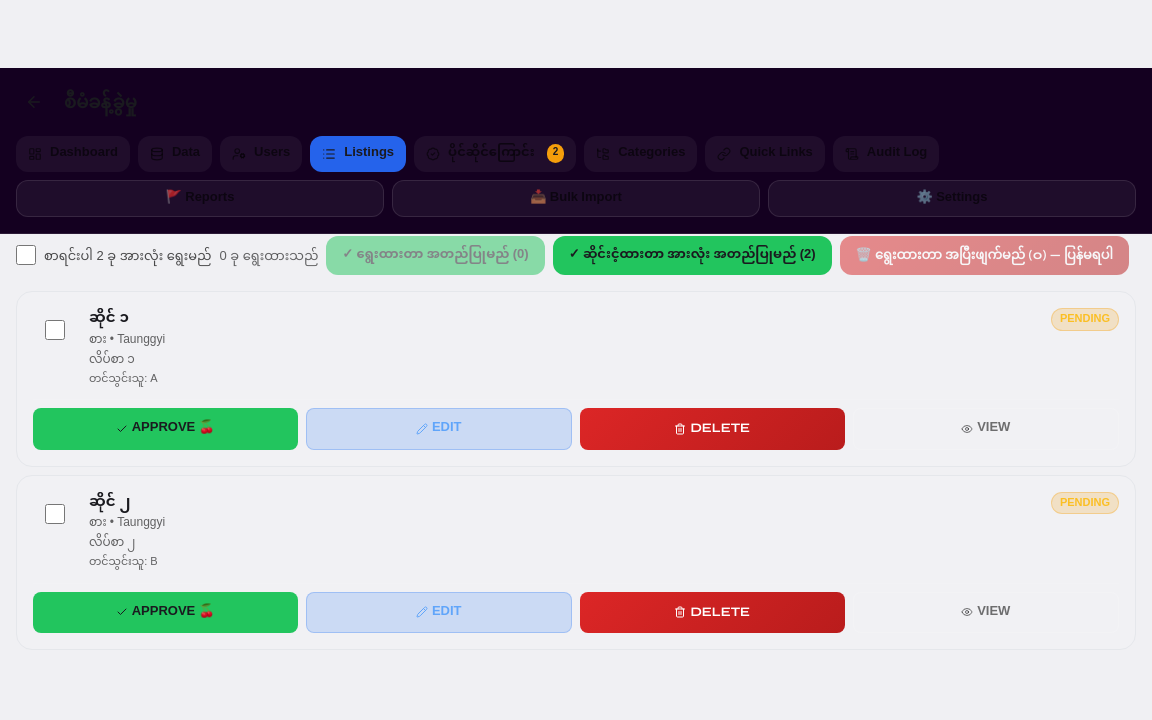
Scenario: v9.28 bulk approve: Admin listings tab › Approve selected, partial failure: failed row stays selected for retry, error toast names it
expect the text "ဆိုင် ၁" is shown: met, box [89,302,129,335]
expect the text "ဆိုင် ၂" is shown: met, box [89,486,130,518]
Click the checkbox next to "ဆိုင် ၁" at (55, 330), box [45,320,65,340]
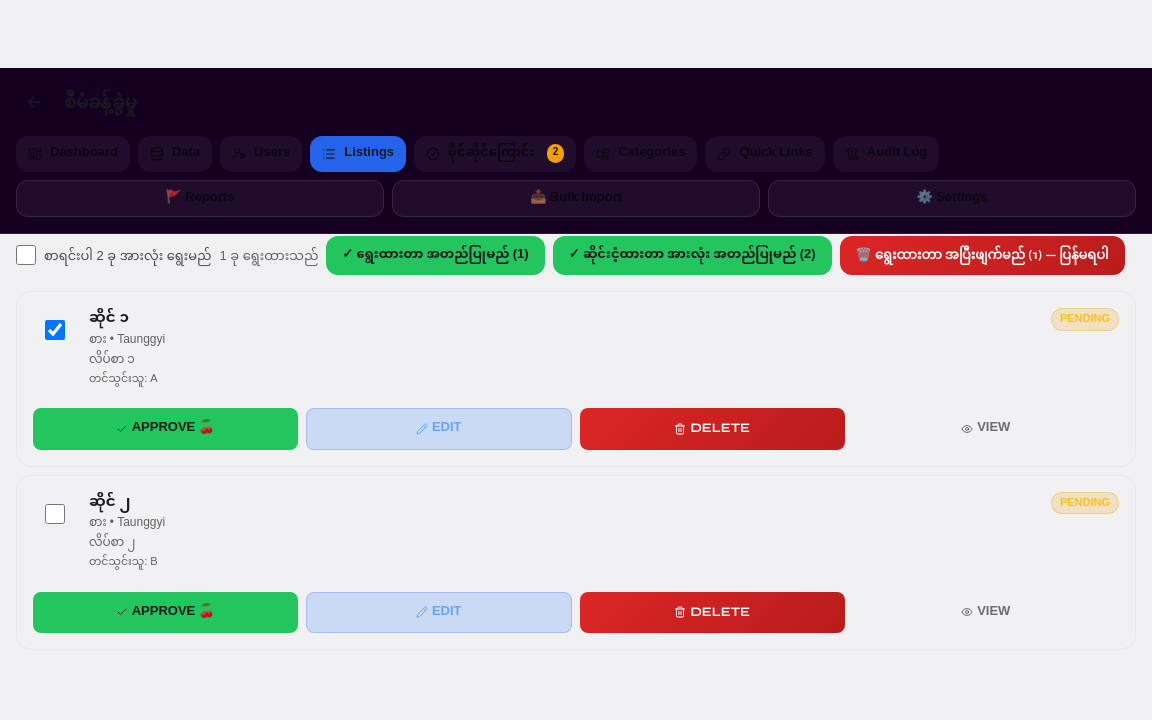
Click the checkbox next to "ဆိုင် ၂" at (55, 514), box [45,504,65,524]
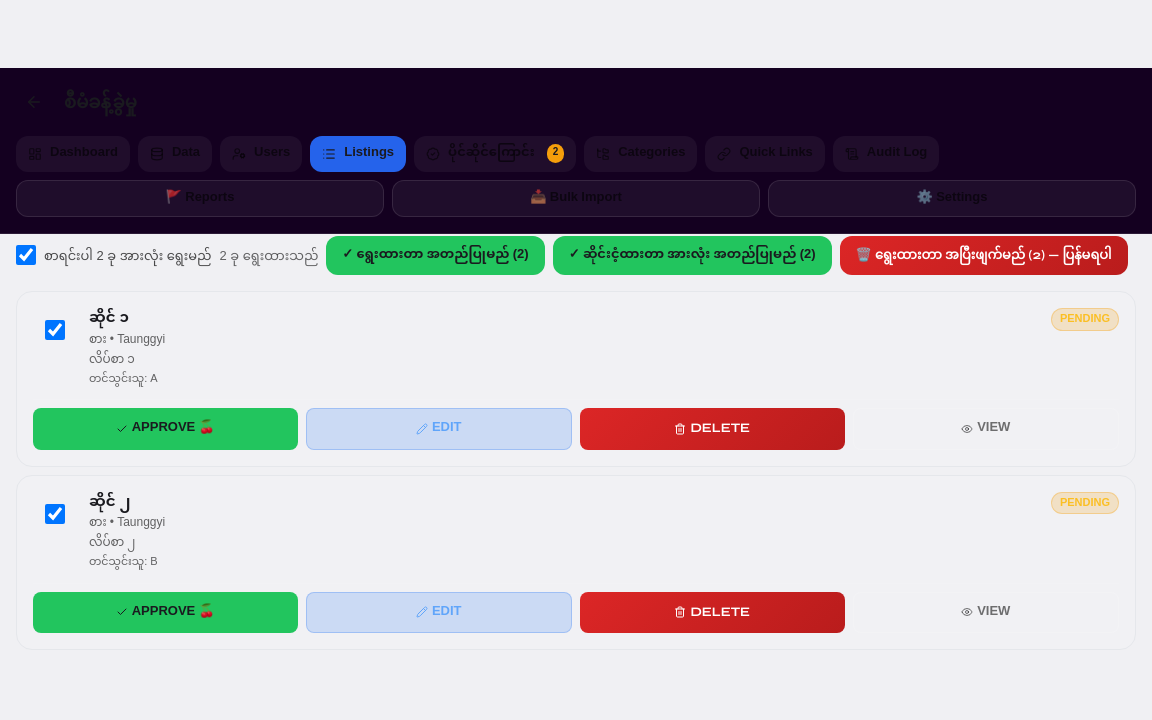
expect the text "2 ခု ရွေးထားသည်" is shown: met, box [220,244,318,267]
Click the button "✓ ရွေးထားတာ အတည်ပြုမည် (2)" at (435, 255), box [326,236,545,275]
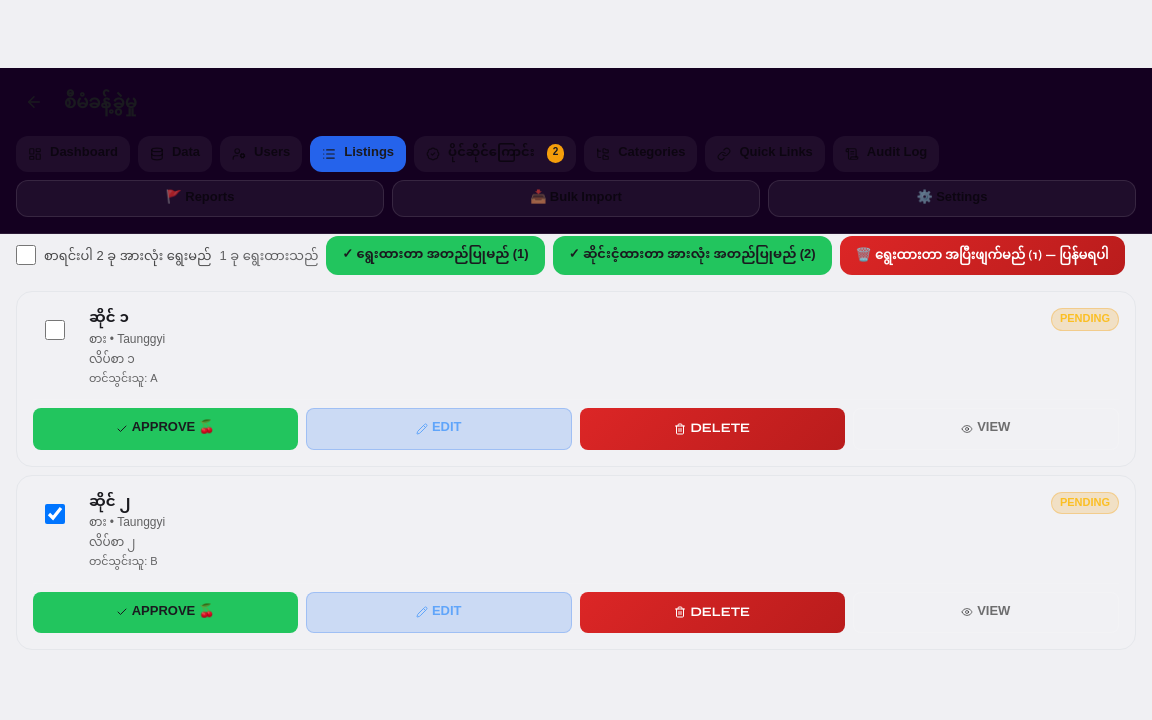
expect the text "1 ခု ရွေးထားသည်" is shown: met, box [220,244,318,267]
